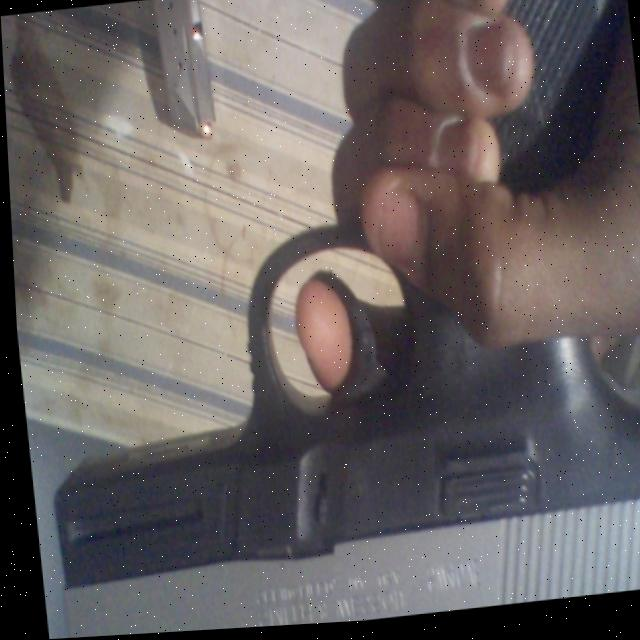pistol: (17, 197, 640, 640)
